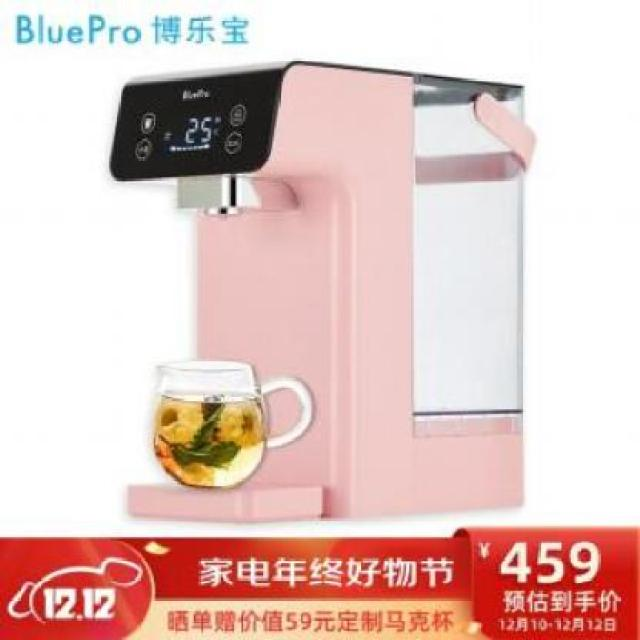cooler: (109, 58, 537, 527)
